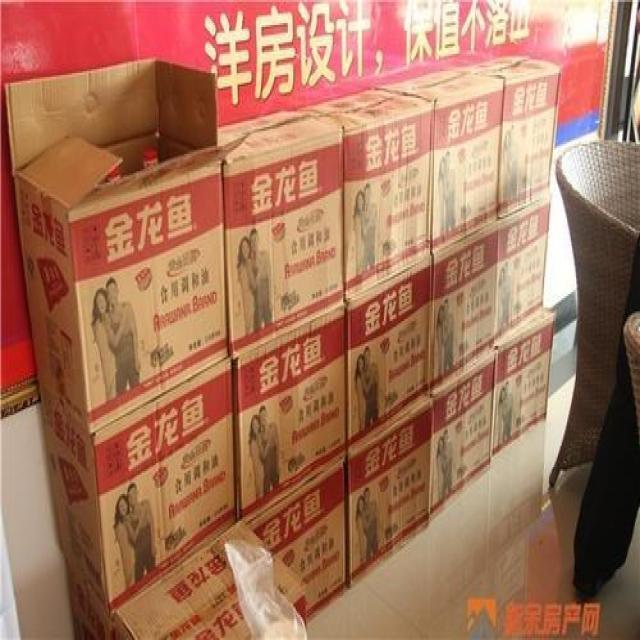box: (5, 80, 231, 428), (36, 360, 244, 612), (212, 104, 348, 363), (304, 83, 432, 295), (234, 304, 350, 531), (391, 55, 501, 253), (346, 387, 431, 607), (241, 461, 347, 631), (340, 246, 432, 430), (466, 45, 559, 210), (427, 345, 497, 539), (427, 216, 505, 388), (486, 299, 557, 445), (494, 197, 554, 347)
